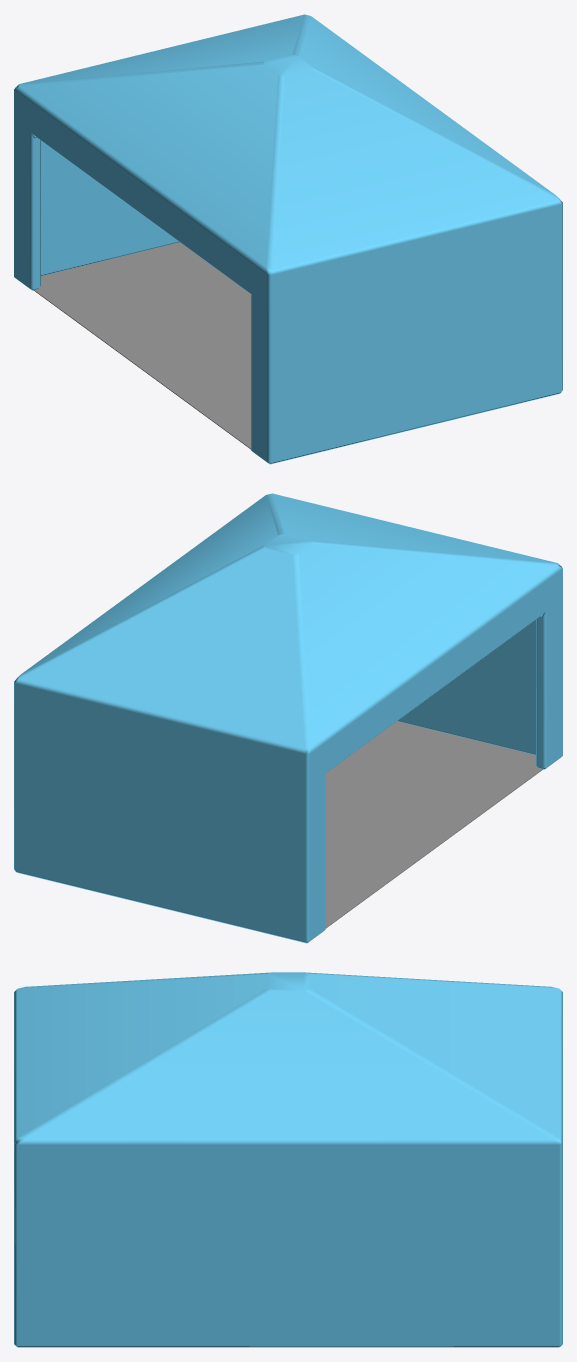
File: Pit-box-Tent-big.fbx
3 views of the same model, one above another, from view 1: azimuth 30°, elevation 25°; view 2: azimuth 150°, elevation 25°; view 3: azimuth 270°, elevation 25° (orthographic). The views are drawn at different scales.
Visible parts, largest first — view 1: Pit-box-Tent-big, Pit-box-Tent-big_Floor; view 2: Pit-box-Tent-big, Pit-box-Tent-big_Floor; view 3: Pit-box-Tent-big.
Part boxes in pixels (left/top/right/bottom): Pit-box-Tent-big: left=14, top=14, right=562, bottom=464; Pit-box-Tent-big_Floor: left=34, top=242, right=251, bottom=449; Pit-box-Tent-big: left=14, top=493, right=562, bottom=943; Pit-box-Tent-big_Floor: left=325, top=721, right=542, bottom=928; Pit-box-Tent-big: left=14, top=972, right=562, bottom=1347.
Bounding box in the file's own units: 400 × 350 × 600.
